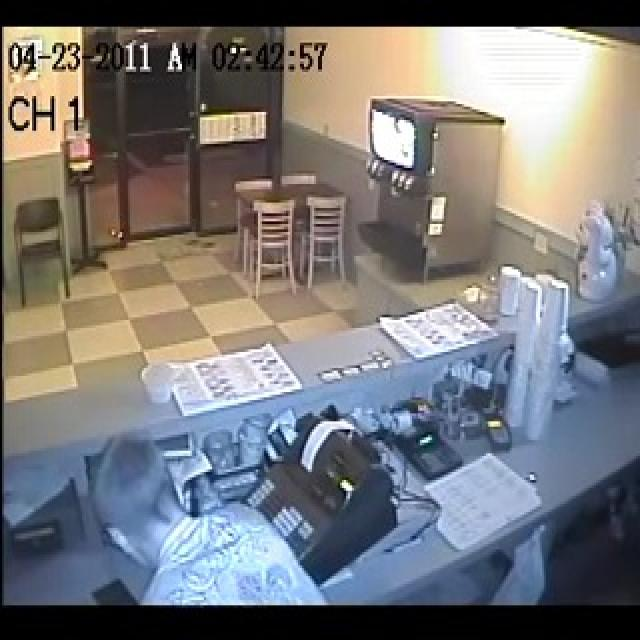thief: (81, 440, 342, 602)
